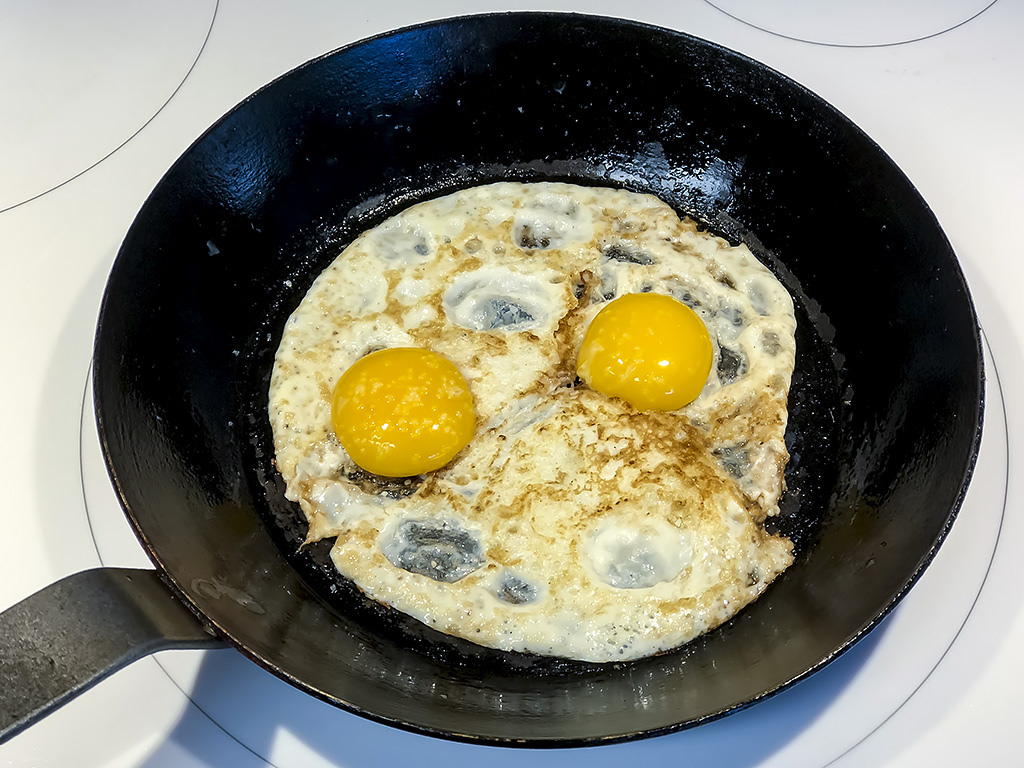fried egg: (500, 172, 813, 672), (260, 211, 570, 669)
